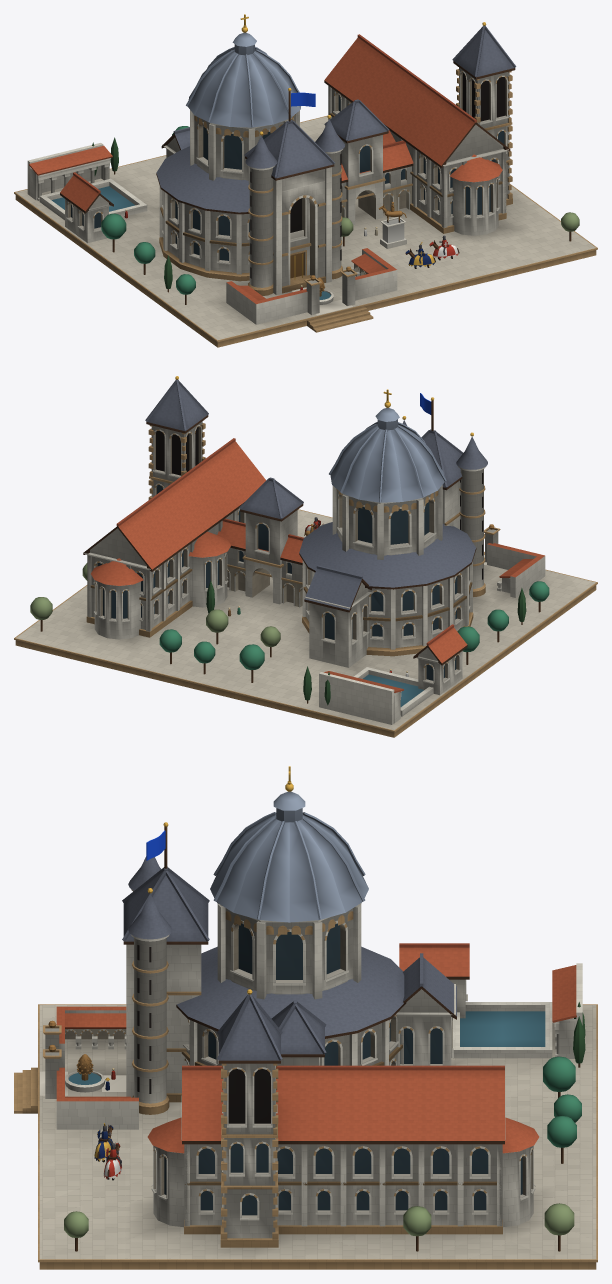
Rendered from lm_aachen.glb.
3 views of the same model, one above another, from view 1: azimuth 30°, elevation 25°; view 2: azimuth 150°, elevation 25°; view 3: azimuth 270°, elevation 25° (orthographic). The views are drawn at different scales.
Visible parts, largest first — view 1: lm_aachen; view 2: lm_aachen; view 3: lm_aachen.
Part boxes in pixels (box(x1,y1,x2,y2)): lm_aachen: box(14, 14, 597, 347); lm_aachen: box(14, 376, 597, 737); lm_aachen: box(14, 766, 597, 1269).
Size of the model in its own units: 2.14 by 1.27 by 2.06.
Materials: 1 (1 with a texture image).
